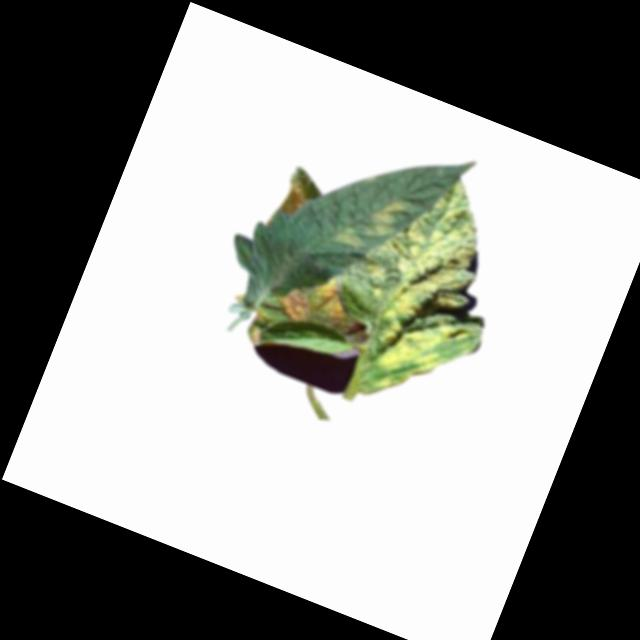Leaf_Mold: (324, 162, 530, 428), (275, 264, 378, 349), (369, 189, 410, 238), (327, 220, 377, 255), (278, 177, 314, 219)
